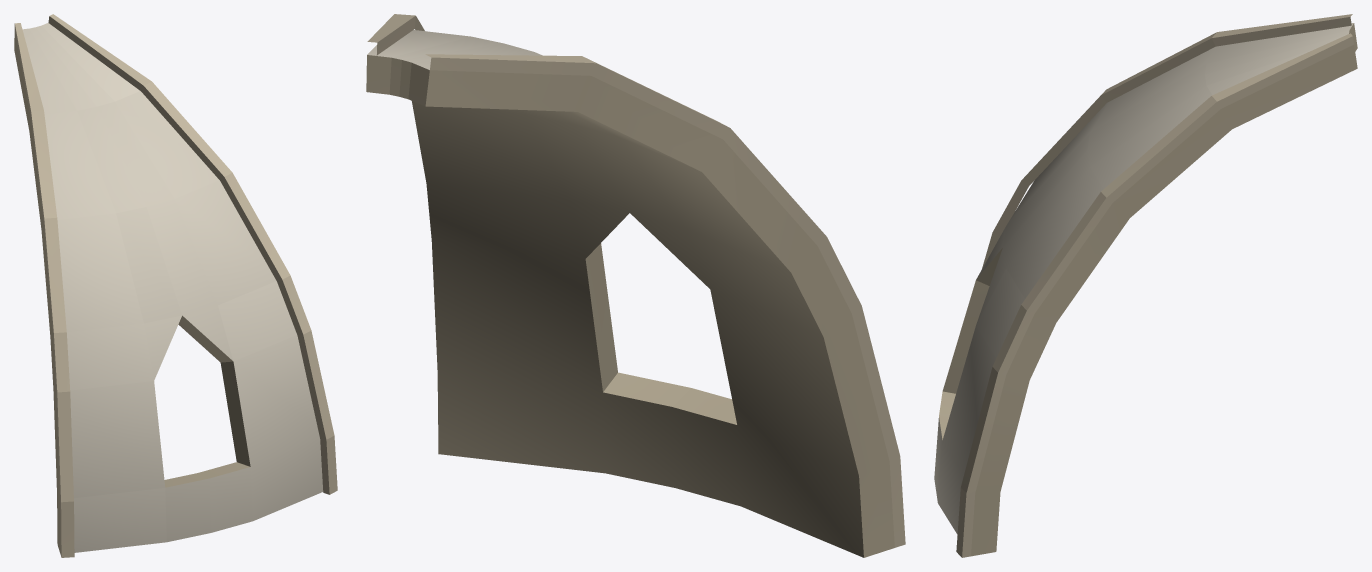
Rendered from dome.panel_8_window.plaster.glb.
3 renders of one model, left to right at view 1: azimuth 30°, elevation 25°; view 2: azimuth 150°, elevation 25°; view 3: azimuth 270°, elevation 25°, orthographic. The views are drawn at different scales.
Parts seen in each view (by area): view 1: dome_panel_8_window_plaster; view 2: dome_panel_8_window_plaster; view 3: dome_panel_8_window_plaster.
Boxes of the visible parts, box(x1,y1,x2,y2) form: dome_panel_8_window_plaster: box(14, 14, 337, 557); dome_panel_8_window_plaster: box(366, 14, 905, 557); dome_panel_8_window_plaster: box(934, 14, 1357, 557).
Size of what is drawn, in the model's own units: 2.73 by 3.63 by 3.08.
